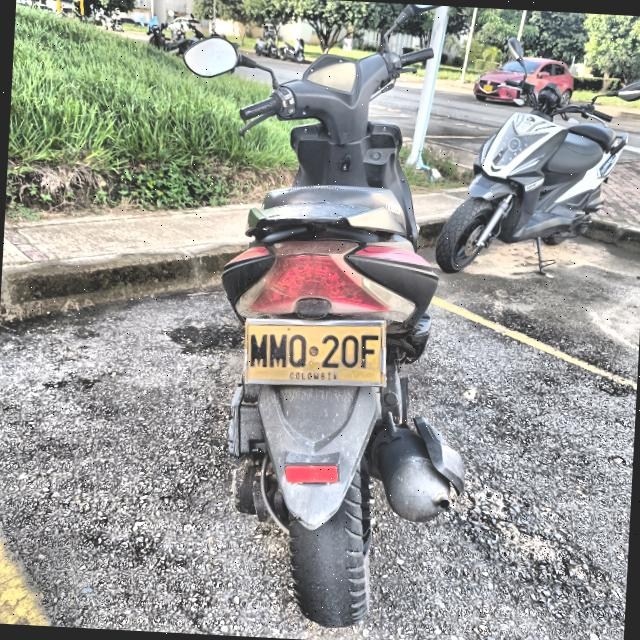plate: (248, 325, 380, 382)
